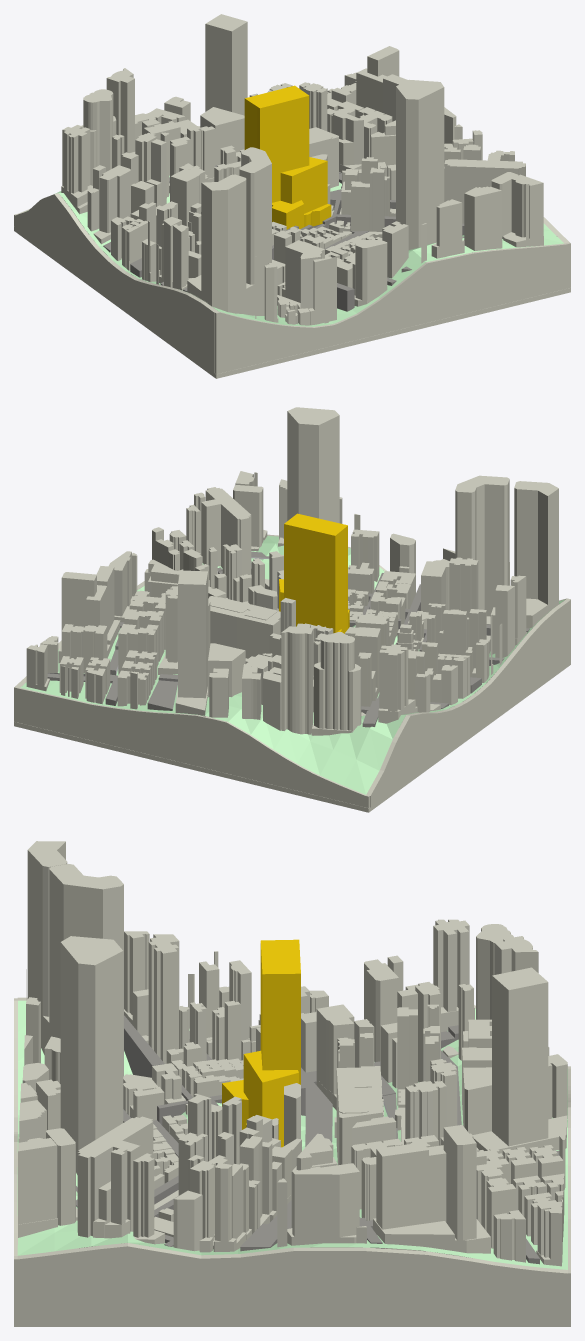
The model's file is perfect_model.glb.
The picture shows the model from 3 angles, top to bottom: view 1: azimuth 30°, elevation 25°; view 2: azimuth 150°, elevation 25°; view 3: azimuth 270°, elevation 25°; orthographic projection. The views are drawn at different scales.
Parts seen in each view (by area): view 1: Group1, Group575, Group306, Group492, Group27, Group194, Group656, Group429, Group135, Group228, Group12, Group362 (+43 smaller); view 2: Group1, Group656, Group492, Group575, Group194, Group306, Group27, Group600, Group429, Model, Group168, Group51 (+43 smaller); view 3: Group1, Group575, Group27, Model, Group656, Group194, Group492, Group77, Group429, Group230, Group306, Group296 (+64 smaller).
Boxes of the visible parts, x1,y1,x2,y2 form: Group1: [14, 193, 570, 378]; Group575: [396, 79, 444, 249]; Group306: [201, 174, 246, 314]; Group492: [244, 85, 309, 202]; Group27: [205, 14, 247, 115]; Group194: [239, 147, 271, 315]; Group656: [25, 175, 563, 326]; Group429: [444, 154, 525, 223]; Group135: [464, 186, 502, 250]; Group228: [280, 157, 327, 213]; Group12: [285, 240, 324, 308]; Group362: [62, 125, 90, 203]; Group1: [14, 534, 570, 812]; Group656: [20, 535, 564, 794]; Group492: [284, 513, 347, 633]; Group575: [287, 407, 339, 523]; Group194: [455, 475, 509, 616]; Group306: [514, 481, 558, 612]; Group27: [178, 570, 208, 698]; Group600: [281, 623, 313, 734]; Group429: [201, 487, 251, 575]; Model: [47, 551, 529, 727]; Group168: [314, 662, 361, 730]; Group51: [208, 596, 280, 658]; Group1: [14, 997, 570, 1326]; Group575: [60, 936, 123, 1174]; Group27: [492, 967, 548, 1146]; Model: [76, 1015, 559, 1264]; Group656: [17, 1000, 567, 1269]; Group194: [49, 864, 123, 1076]; Group492: [260, 939, 300, 1084]; Group77: [292, 1163, 359, 1247]; Group429: [77, 1116, 153, 1248]; Group230: [376, 1142, 428, 1229]; Group306: [27, 841, 67, 1050]; Group296: [148, 936, 178, 1063].
Size of the model in its own units: 32.6 by 18.69 by 32.11.
